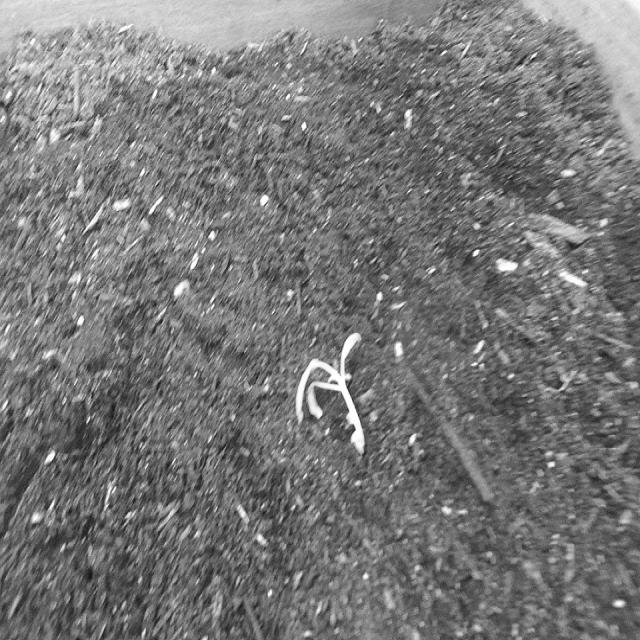Healthy: (294, 326, 372, 459)
